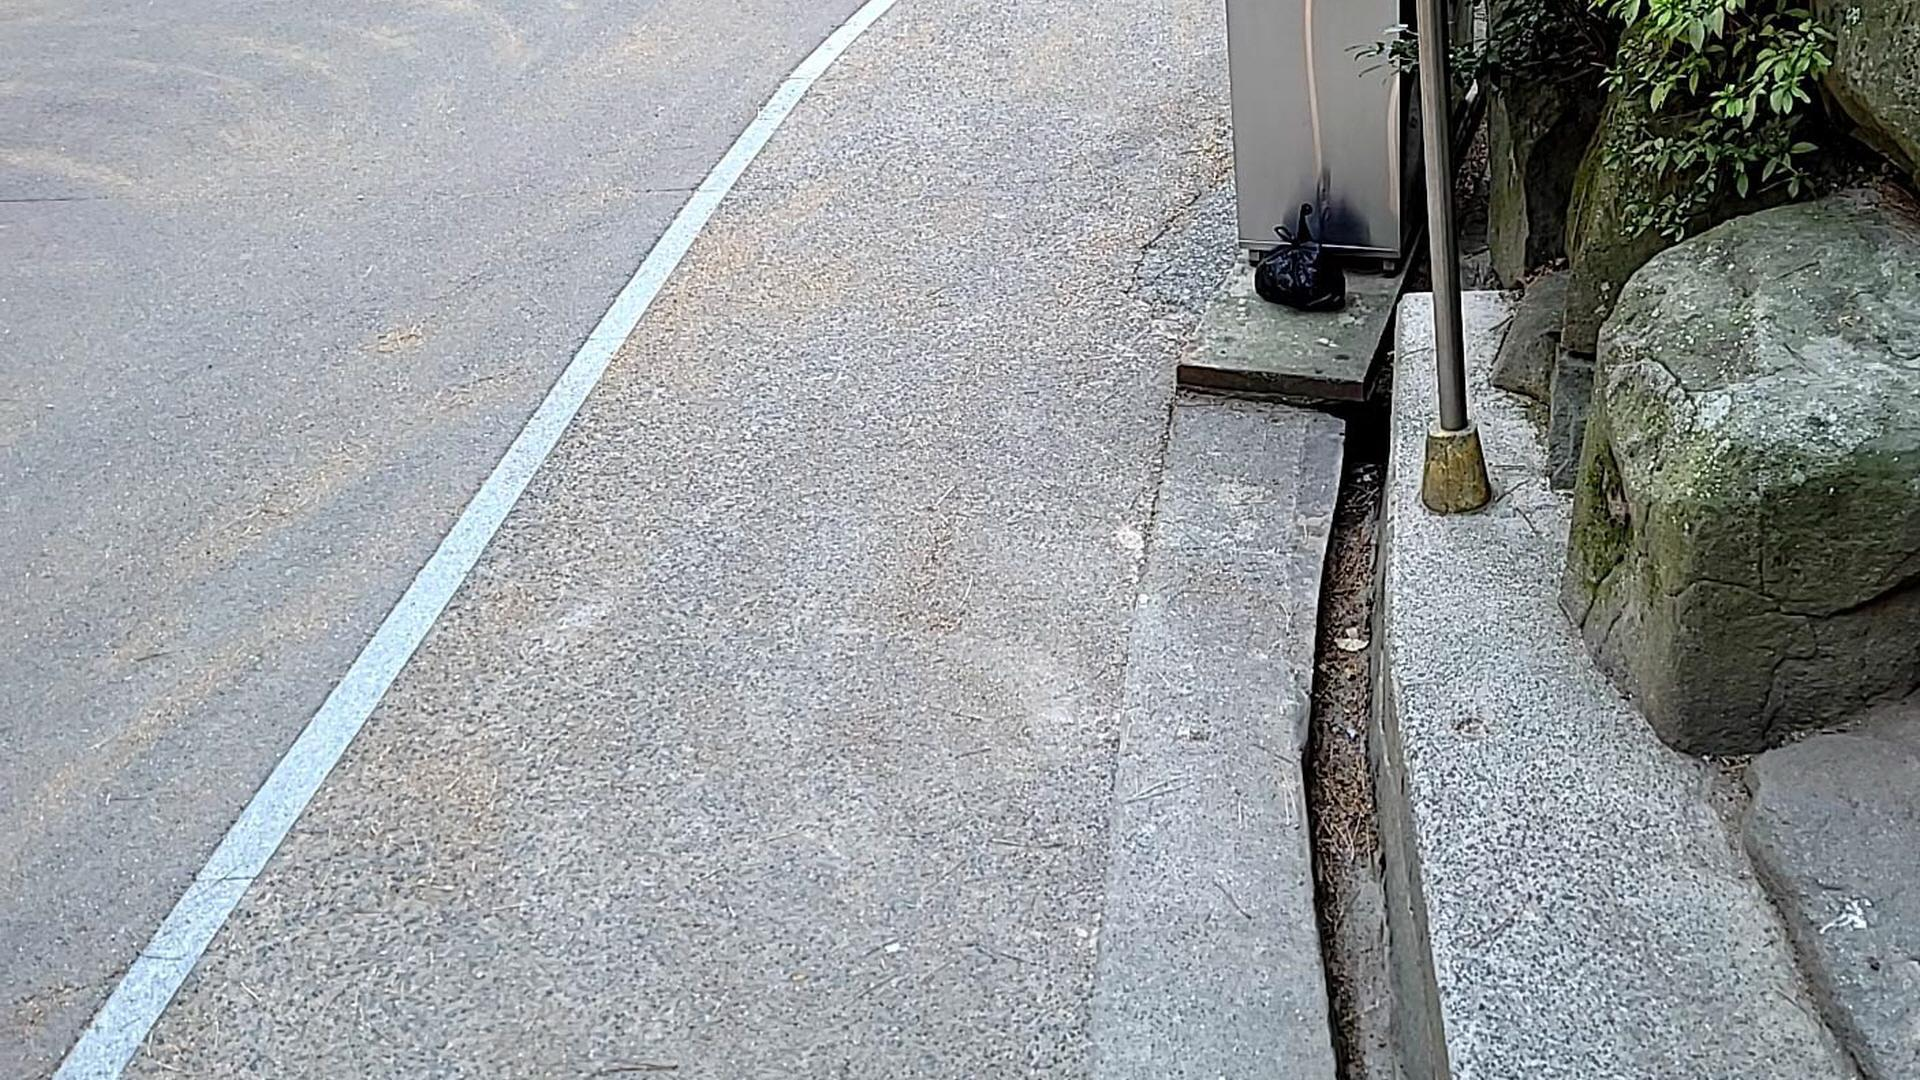white_bag: (1251, 199, 1356, 320)
